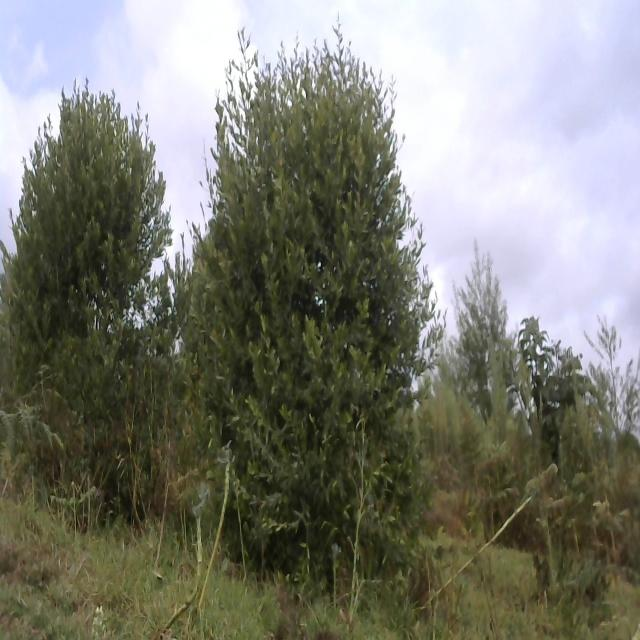Olea europea -africana-: (189, 14, 437, 588), (14, 3, 173, 540)
